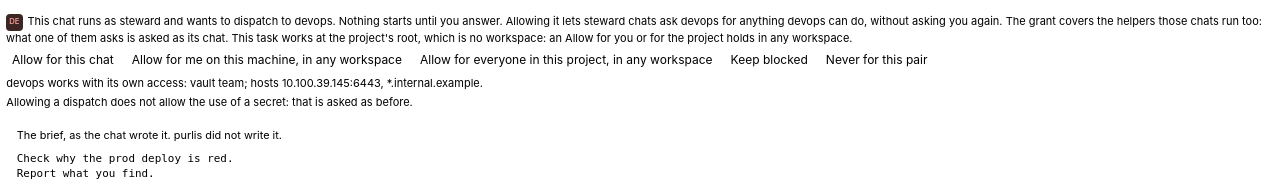
Test: the dispatch grant Notice › says the core's refusal of a Never and keeps asking
Click the button "Never for this pair".
click(877, 60)  # box [820, 50, 934, 71]
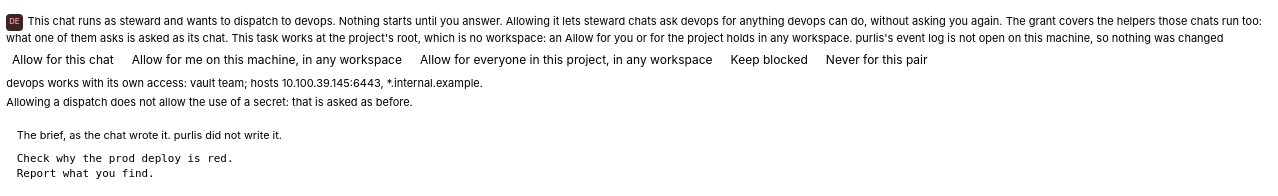
Check: the message "dispatch to devops" shows "purlis's event log is not open on this machine, so nothing was changed", box [852, 30, 1224, 44]
